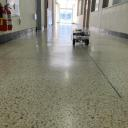cart: (72, 30, 91, 45)
